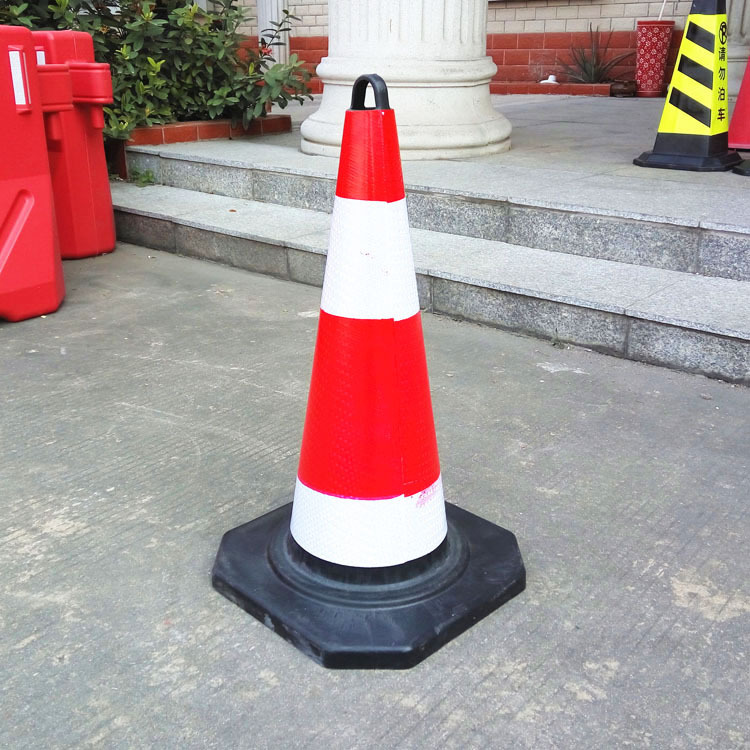traffic_cone: (229, 73, 529, 664)
